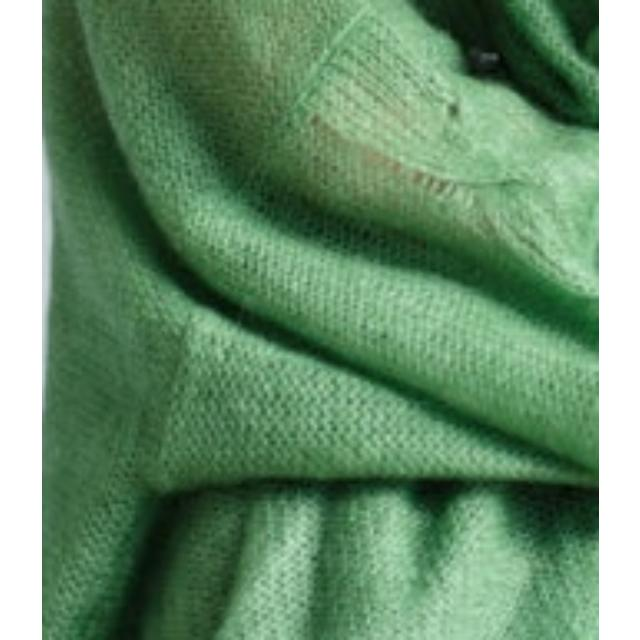silk: (41, 0, 598, 640)
